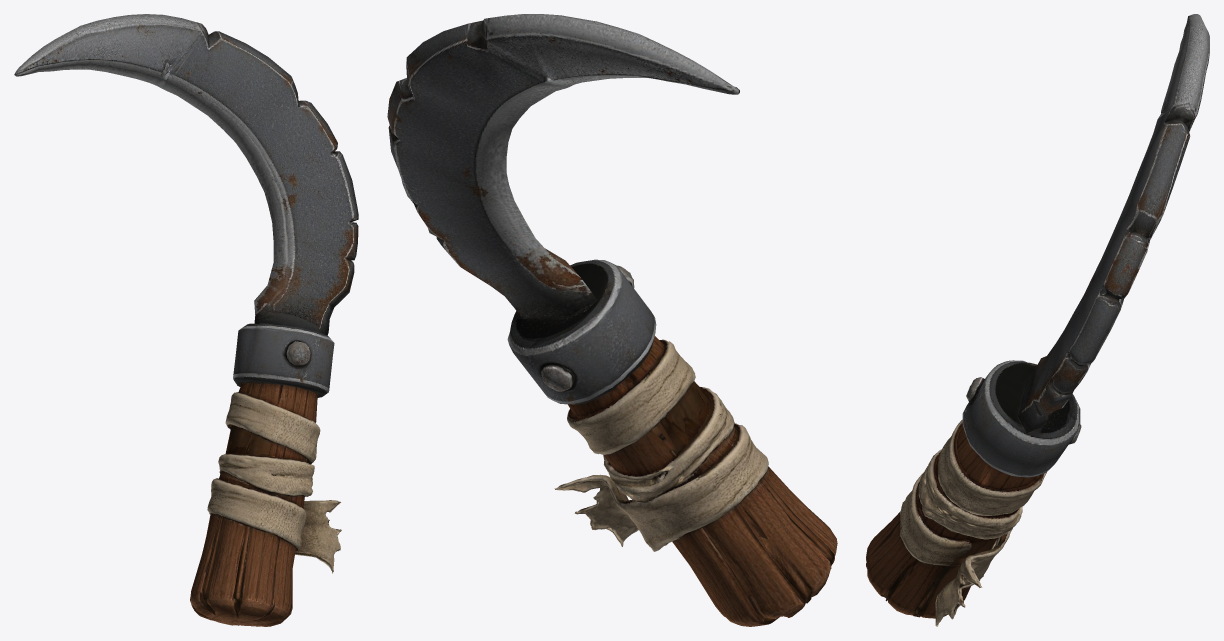
Rendered from shabby_hoe.fbx.
3 renders of one model, left to right at view 1: azimuth 30°, elevation 25°; view 2: azimuth 150°, elevation 25°; view 3: azimuth 270°, elevation 25°, orthographic. The views are drawn at different scales.
Parts seen in each view (by area): view 1: tripo_node_b47b3872; view 2: tripo_node_b47b3872; view 3: tripo_node_b47b3872.
Part boxes in pixels (x1,y1,x2,y2): tripo_node_b47b3872: [14, 14, 358, 626]; tripo_node_b47b3872: [387, 14, 837, 626]; tripo_node_b47b3872: [866, 14, 1209, 626].
Bounding box in the file's own units: 0.5918 × 0.998 × 0.5488.
1 material, 1 textured.
